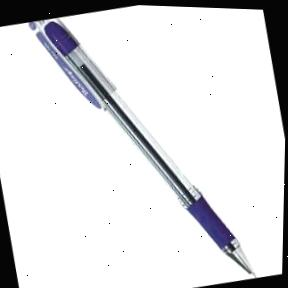pen-pencil: (27, 17, 255, 276), (28, 17, 253, 275), (28, 17, 252, 275)
